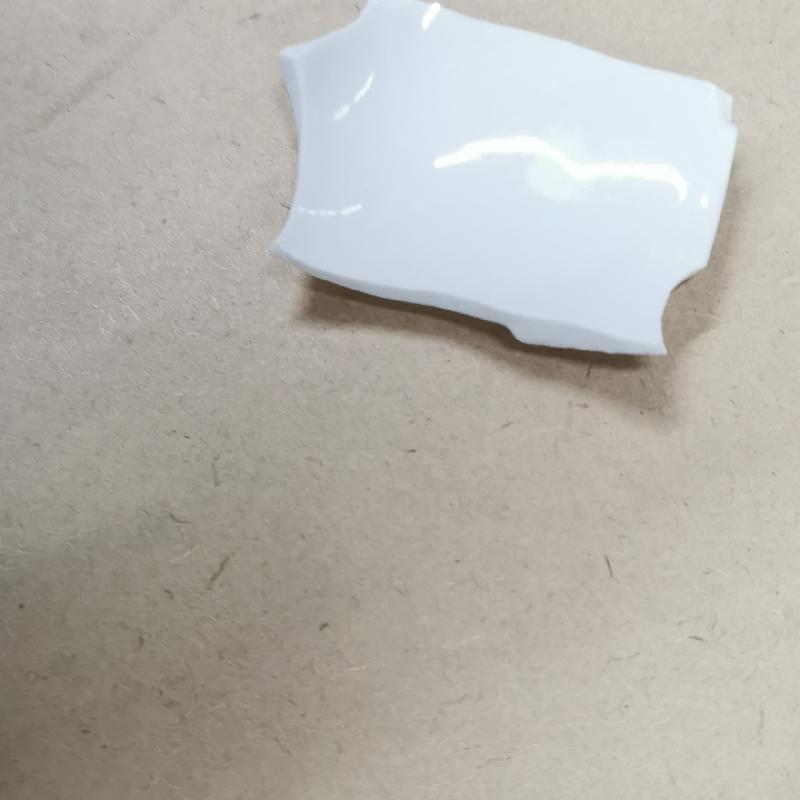ceram: (264, 1, 748, 368)
